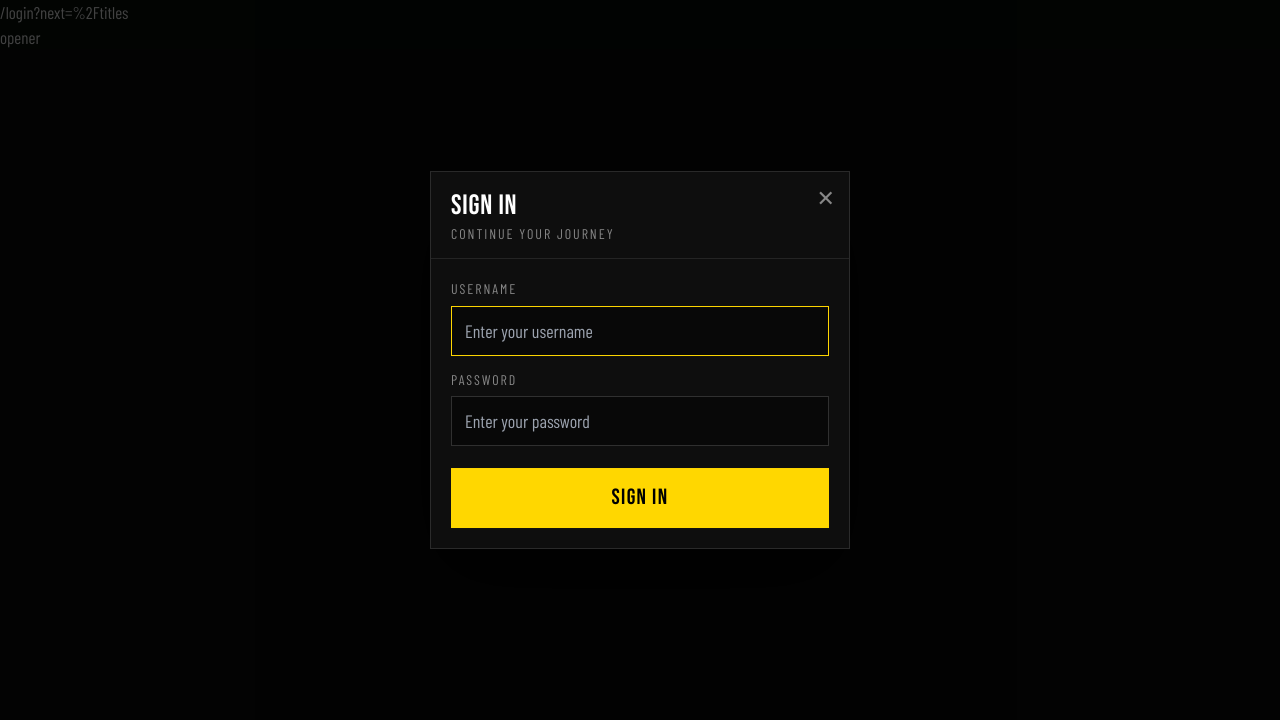
Scenario: LoginDialog: formuläret (som den gamla inloggningssidan) › serverns rate-limit-text visas som den är (inget eget felspråk i klienten)
The image size is (1280, 720).
Type "anna" into the field labelled "Username" at (640,331), box 451,306 -> 829,356
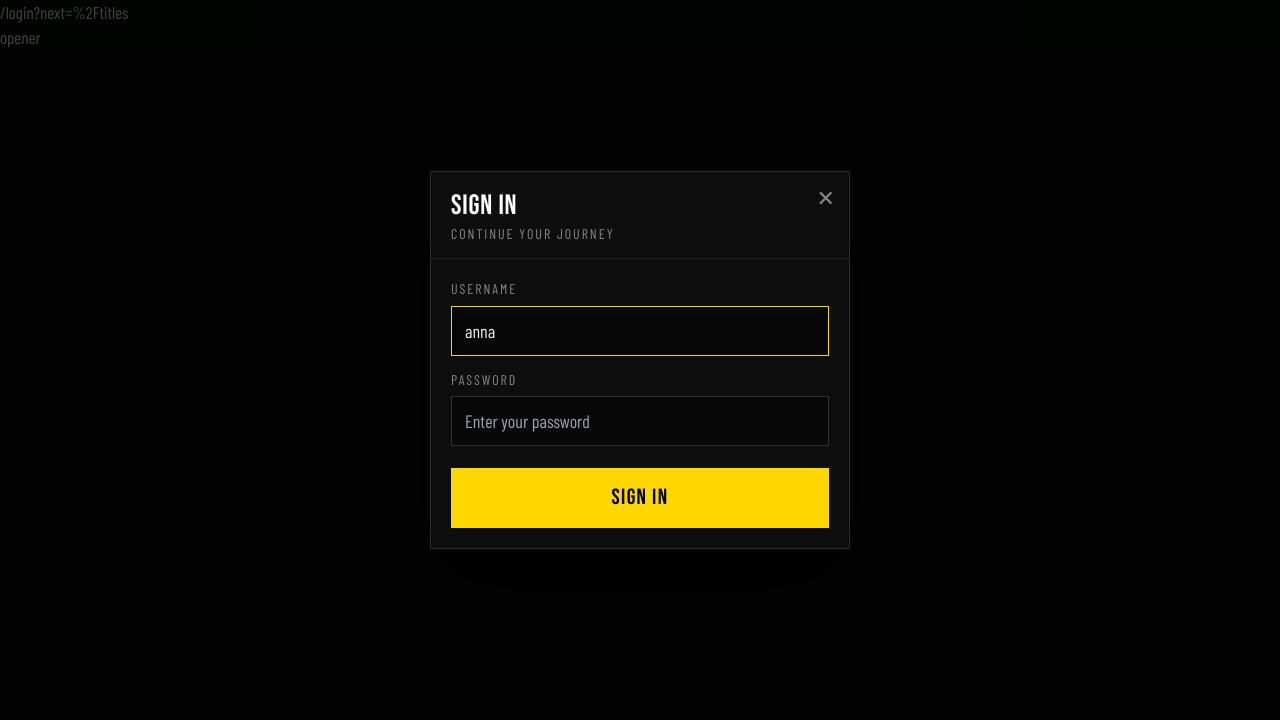
Type "fel" into the password field labelled "Password" at (640,421), box 451,396 -> 829,446
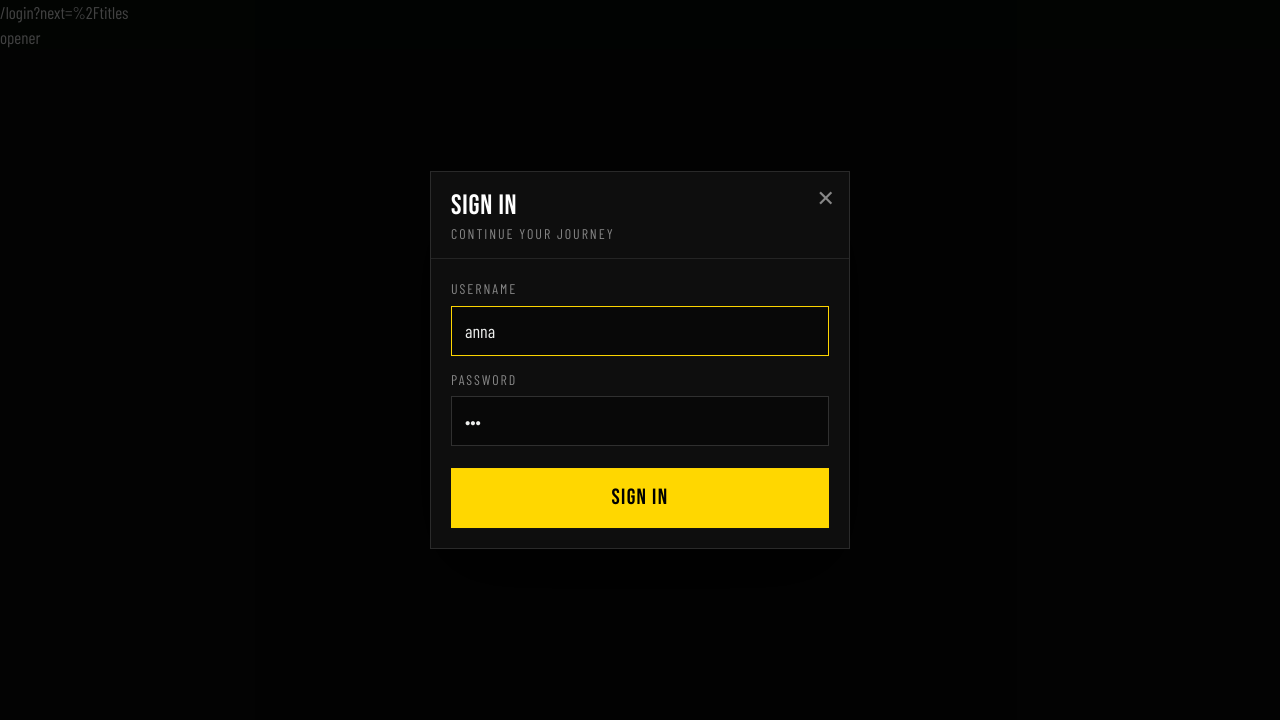
Click the button "Sign In" at (640,498), box 451,468 -> 829,528
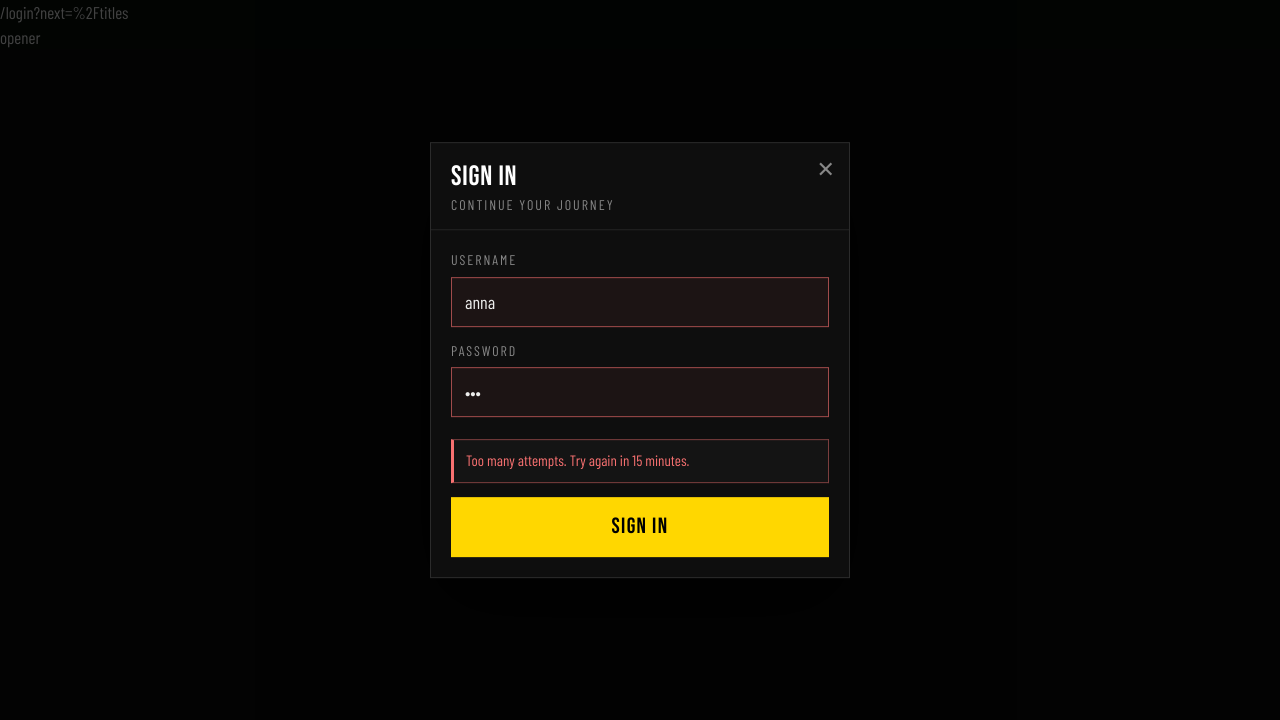
Expected: the message reads "Too many attempts. Try again in 15 minutes.", 466,451 -> 689,469
